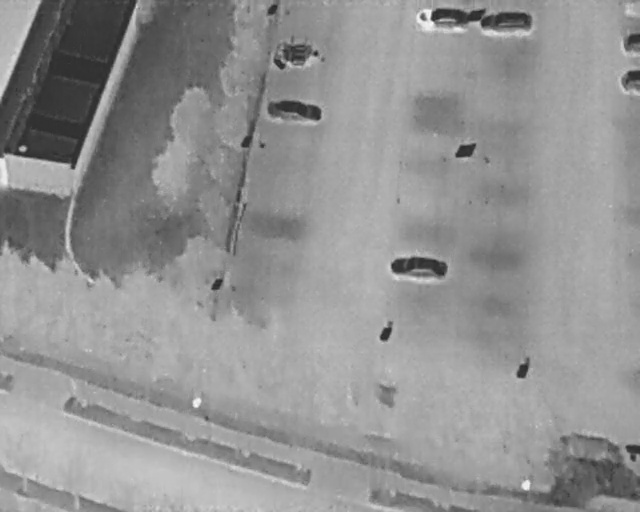Car: (550, 434, 639, 489), (391, 254, 448, 279), (274, 40, 323, 68), (415, 6, 468, 30), (267, 100, 322, 123), (481, 12, 533, 33), (622, 69, 640, 92), (624, 33, 640, 57)
